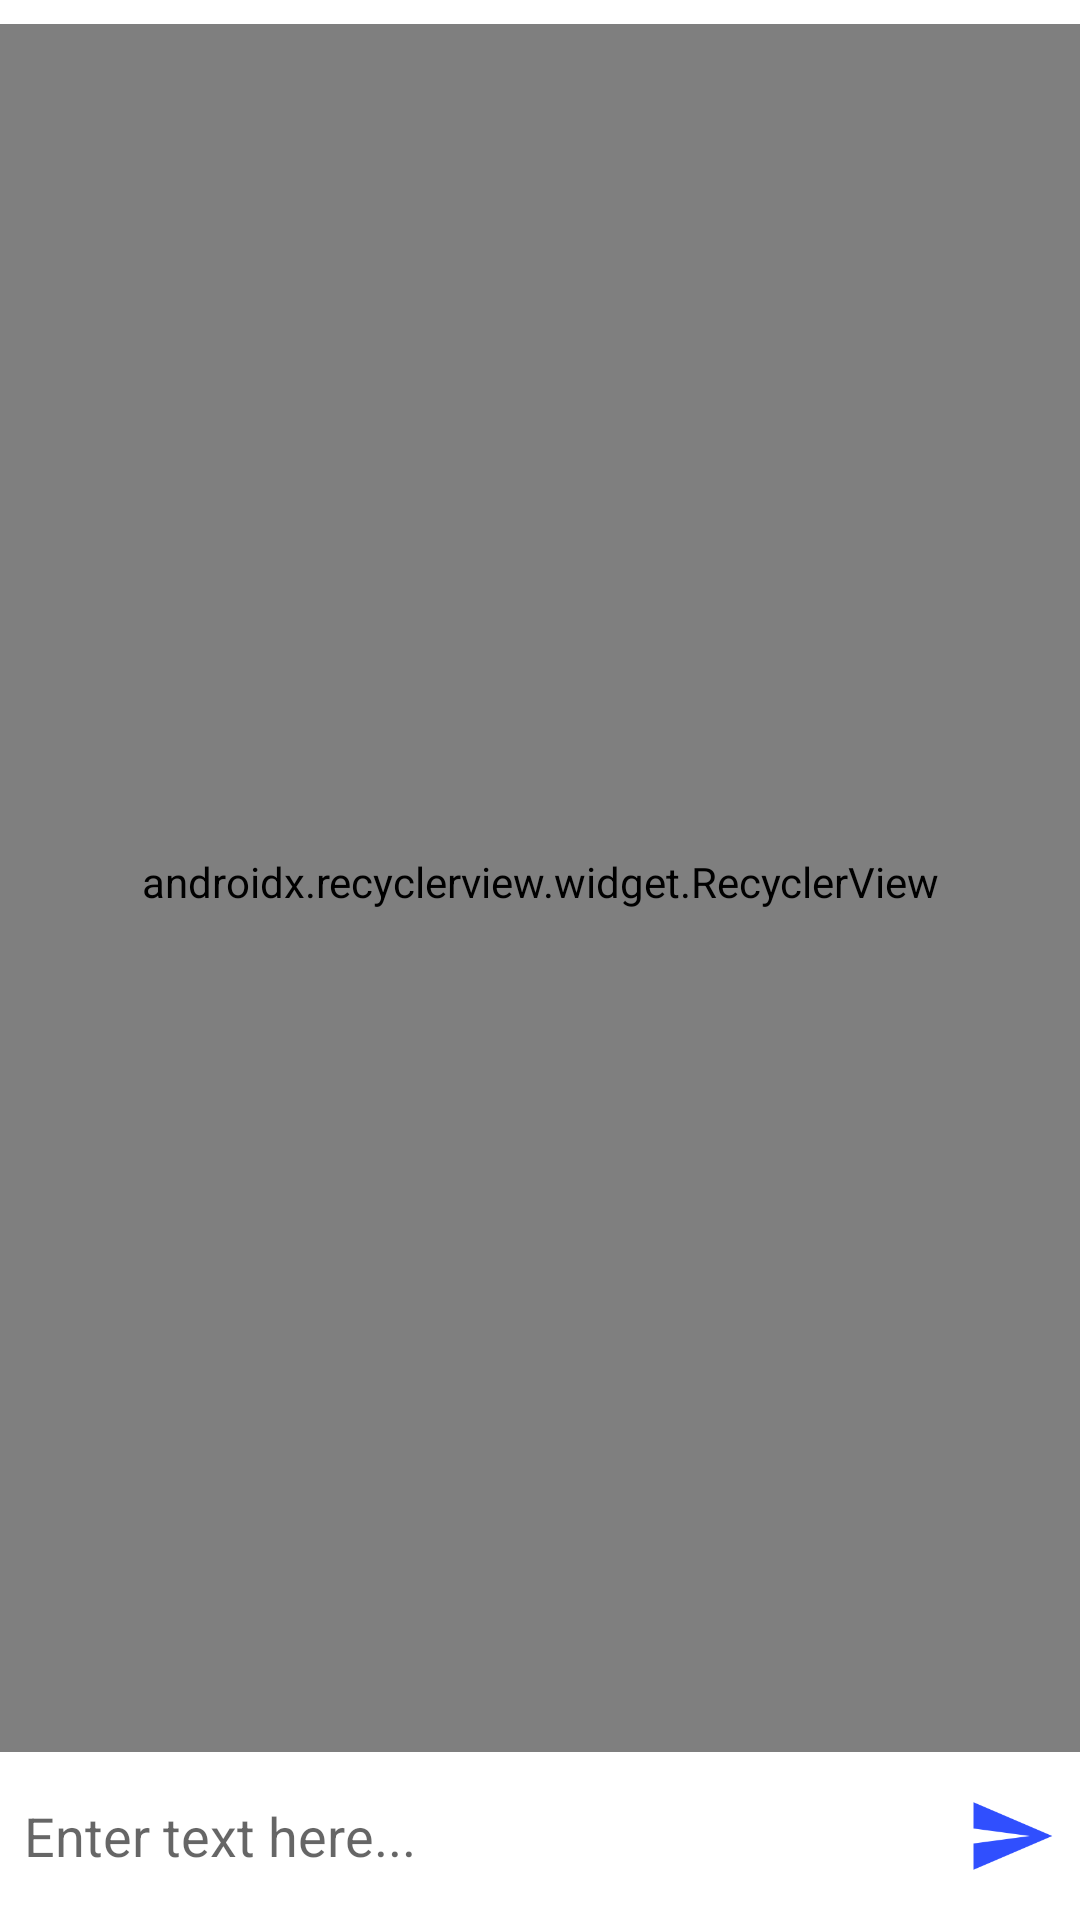

Screen size 1080x1920. Icon name, then its center in pixels as point (x, y):
send: point (1012, 1836)
